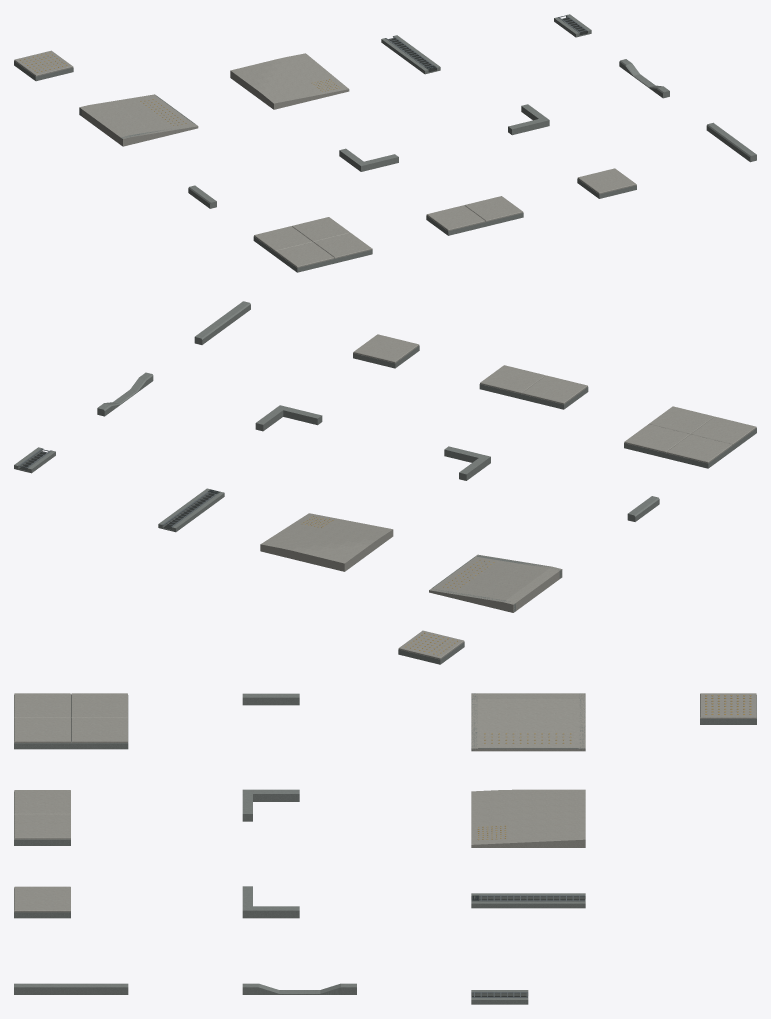
Rendered from ProjectZ_SC20_SidewalkCurbRamp_Kit.glb.
3 views of the same model, one above another, from view 1: azimuth 30°, elevation 25°; view 2: azimuth 150°, elevation 25°; view 3: azimuth 270°, elevation 25° (orthographic). The views are drawn at different scales.
Parts seen in each view (by area): view 1: SeparateBeveledConcretePavers (×4), ClosedQuarterCorner_WedgeSlab, StructuralSlopedSidewalkRamp, OnePiece_LPlan_CurbConcrete (×2), CompactedBedding_Substrate (×2), ClosedBeveledConcreteKerb, CurbCenterDrop_ContinuousConcrete; view 2: SeparateBeveledConcretePavers (×4), ClosedQuarterCorner_WedgeSlab, StructuralSlopedSidewalkRamp, OnePiece_LPlan_CurbConcrete (×2), CompactedBedding_Substrate (×2), ClosedBeveledConcreteKerb, CurbCenterDrop_ContinuousConcrete; view 3: SeparateBeveledConcretePavers (×4), StructuralSlopedSidewalkRamp, ClosedQuarterCorner_WedgeSlab, ClosedBeveledConcreteKerb (×2), OnePiece_LPlan_CurbConcrete (×2), CurbCenterDrop_ContinuousConcrete, CompactedBedding_Substrate, Channel_RightConcreteShoulder, Channel_LeftConcreteShoulder.
Part boxes in pixels (x1,y1,x2,y2): SeparateBeveledConcretePavers (×4): (14, 50, 636, 267); ClosedQuarterCorner_WedgeSlab: (230, 53, 349, 109); StructuralSlopedSidewalkRamp: (79, 94, 198, 146); OnePiece_LPlan_CurbConcrete (×2): (339, 104, 549, 171); CompactedBedding_Substrate (×2): (253, 213, 523, 272); ClosedBeveledConcreteKerb: (706, 122, 756, 162); CurbCenterDrop_ContinuousConcrete: (619, 59, 669, 98); SeparateBeveledConcretePavers (×4): (353, 334, 756, 659); ClosedQuarterCorner_WedgeSlab: (260, 513, 393, 571); StructuralSlopedSidewalkRamp: (429, 554, 562, 612); OnePiece_LPlan_CurbConcrete (×2): (255, 405, 490, 480); CompactedBedding_Substrate (×2): (479, 384, 756, 468); ClosedBeveledConcreteKerb: (194, 301, 250, 344); CurbCenterDrop_ContinuousConcrete: (97, 372, 153, 416); SeparateBeveledConcretePavers (×4): (14, 693, 756, 912); StructuralSlopedSidewalkRamp: (471, 693, 585, 751); ClosedQuarterCorner_WedgeSlab: (471, 789, 585, 847); ClosedBeveledConcreteKerb (×2): (14, 693, 299, 994); OnePiece_LPlan_CurbConcrete (×2): (242, 789, 299, 918); CurbCenterDrop_ContinuousConcrete: (242, 983, 356, 994); CompactedBedding_Substrate: (14, 695, 128, 749); Channel_RightConcreteShoulder: (471, 901, 585, 908); Channel_LeftConcreteShoulder: (471, 893, 585, 899).
Size of the model in its own units: 12.42 by 0.228 by 13.
Materials: 7 (6 with a texture image).
